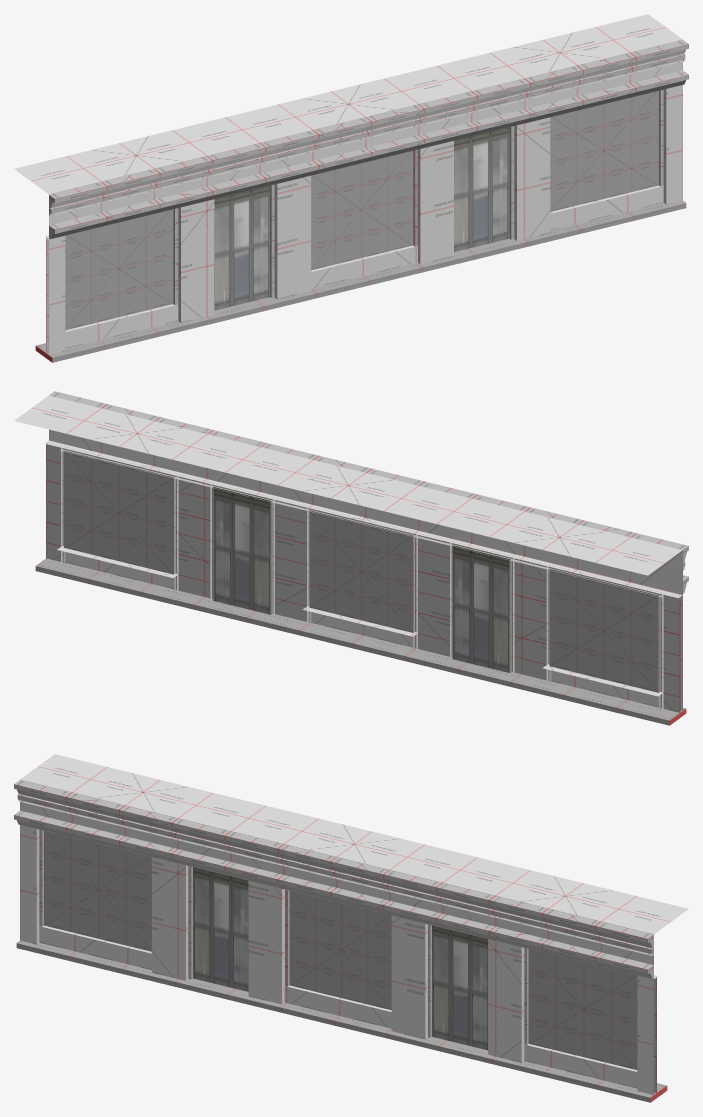
The picture shows the model from 3 angles, top to bottom: view 1: azimuth 30°, elevation 25°; view 2: azimuth 150°, elevation 25°; view 3: azimuth 330°, elevation 25°; orthographic projection.
Visible parts, largest first — view 1: B_08_3x_b, B_08_border_t_a, B_03_border_b; view 2: B_08_3x_b, B_03_border_b, B_08_border_t_a; view 3: B_08_3x_b, B_08_border_t_a, B_03_border_b.
Part boxes in pixels (x1,y1,x2,y2): B_08_3x_b: (14, 14, 682, 354); B_08_border_t_a: (49, 40, 688, 239); B_03_border_b: (35, 200, 686, 362); B_08_3x_b: (14, 395, 682, 712); B_03_border_b: (35, 558, 686, 725); B_08_border_t_a: (49, 391, 688, 593); B_08_3x_b: (20, 754, 688, 1094); B_08_border_t_a: (14, 780, 653, 979); B_03_border_b: (16, 940, 667, 1102).
Size of the model in its own units: 60.01 by 6.71 by 15.
